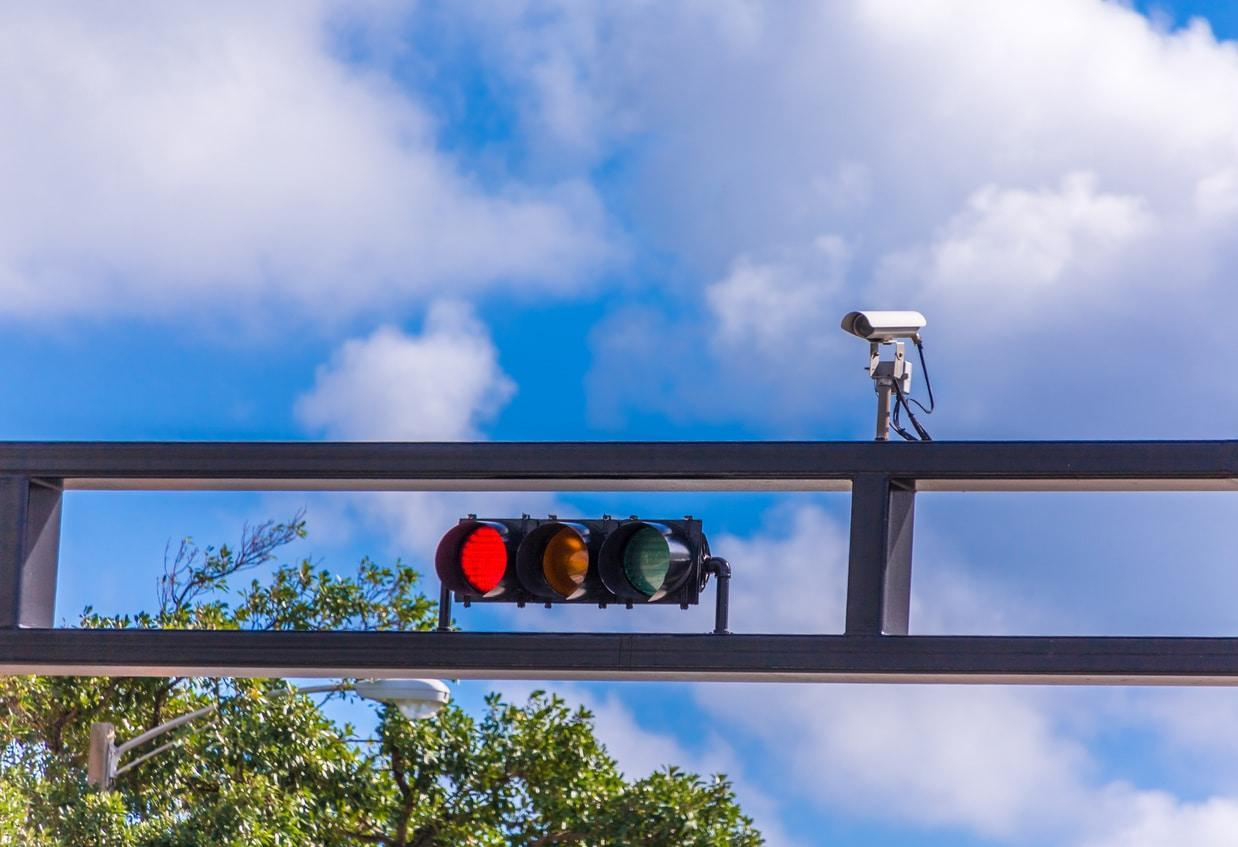Monitor: (433, 511, 713, 611), (826, 273, 1014, 420)
